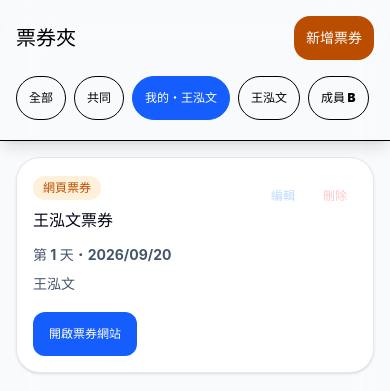
Scenario: TicketWalletSection › shows a filtered empty state and can return to all tickets
Click the button with test id "ticket-filter-common". click: coordinates (99, 98)
box: [74,76,124,120]
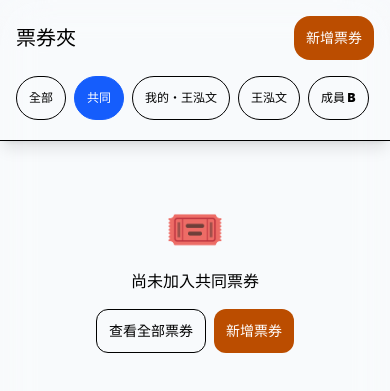
Expected: the number of buttons "新增票券" is 2, [294,16,374,60]; [214,309,294,353]
Expected: the heading "尚未加入共同票券" is shown, [131,269,259,293]
Click the button "查看全部票券". click: coordinates (151, 331)
box: [96,309,206,353]
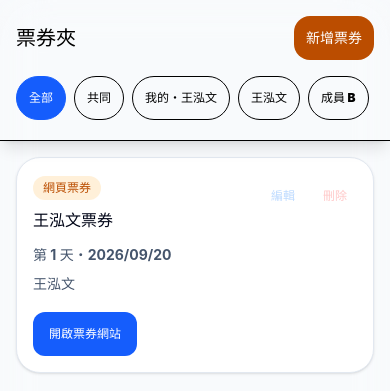
Expected: the heading "王泓文票券" is shown, [33,208,113,232]
